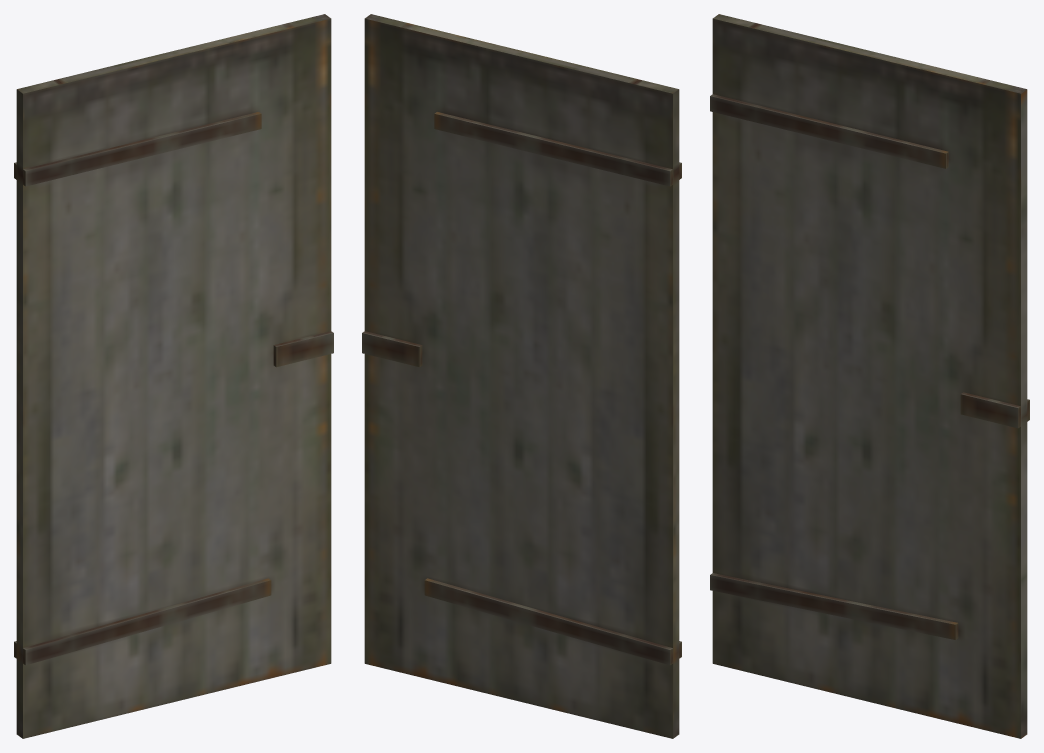
The model's file is DoorWooden01.obj.
3 views of the same model, side by side, from view 1: azimuth 30°, elevation 25°; view 2: azimuth 150°, elevation 25°; view 3: azimuth 330°, elevation 25° (orthographic).
Visible parts, largest first — view 1: DoorWooden01; view 2: DoorWooden01; view 3: DoorWooden01.
Boxes of the visible parts, <box> form: DoorWooden01: <box>14,14,333,738</box>; DoorWooden01: <box>362,14,681,738</box>; DoorWooden01: <box>710,14,1029,738</box>.
Bounding box in the file's own units: 1.5 × 3 × 0.0975.
